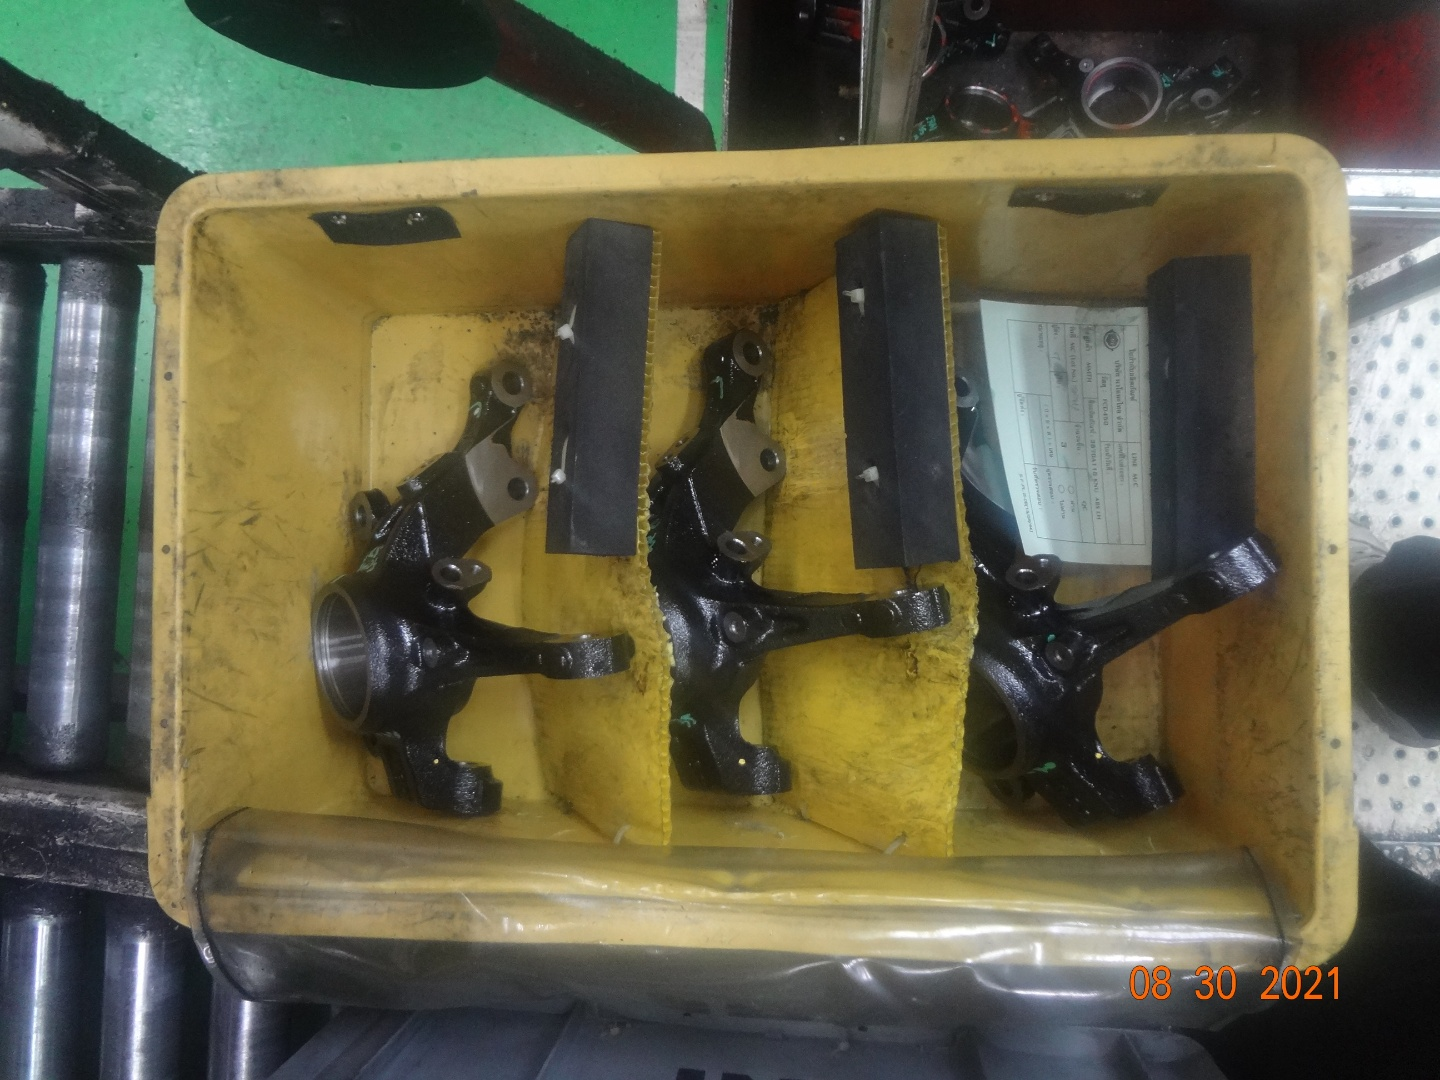abs-lh: (300, 356, 651, 828), (949, 352, 1284, 827), (657, 328, 952, 805)
